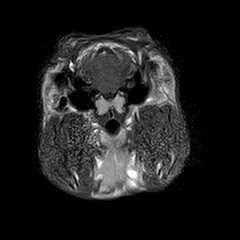Brain: (59, 20, 158, 118)
